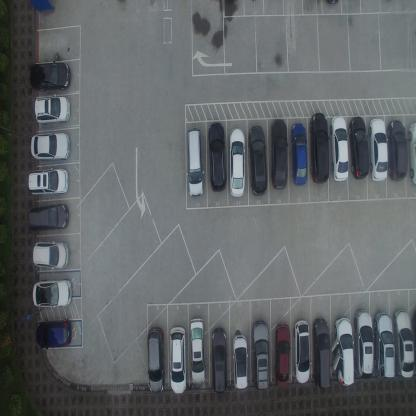car: (352, 306, 374, 378), (307, 112, 329, 184), (373, 311, 396, 378), (250, 318, 271, 390), (393, 308, 414, 379), (334, 314, 354, 386), (247, 124, 267, 196), (268, 118, 288, 189), (347, 115, 369, 179), (312, 316, 331, 389), (28, 60, 70, 93), (31, 278, 73, 310), (27, 166, 69, 198), (146, 327, 166, 394), (368, 115, 388, 181), (386, 117, 407, 179), (26, 203, 69, 233), (228, 127, 246, 198), (208, 121, 226, 192), (29, 130, 70, 161), (32, 94, 70, 127), (329, 114, 348, 180), (31, 240, 70, 272), (169, 324, 186, 395), (186, 127, 203, 198), (293, 318, 311, 385), (211, 326, 228, 396), (35, 318, 72, 350), (288, 122, 306, 185), (189, 316, 205, 385), (274, 321, 290, 387), (233, 334, 249, 390)
